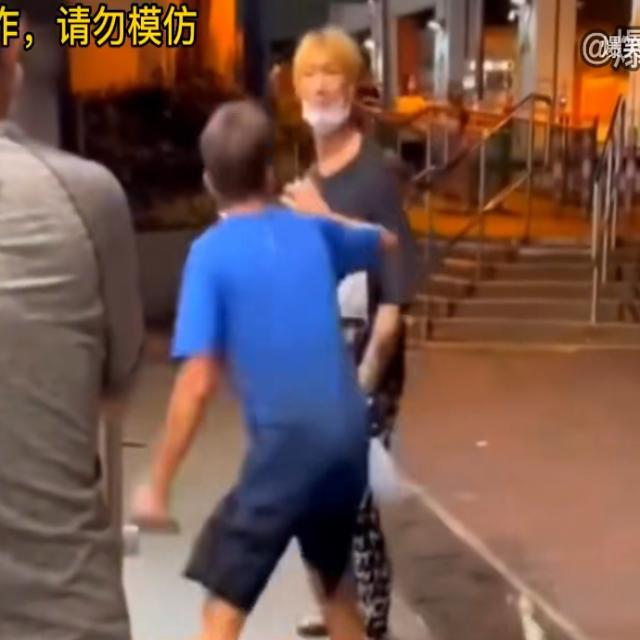nofight: (180, 85, 384, 640), (0, 0, 166, 639), (285, 33, 438, 640)
